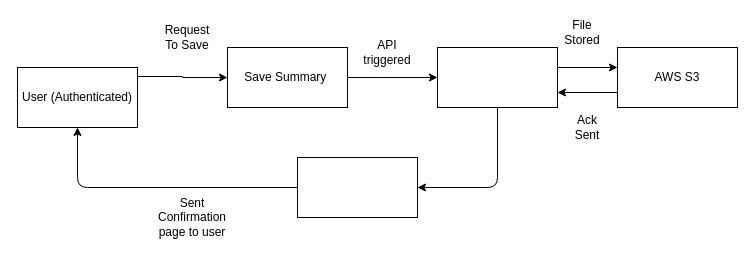
Some shapes in this 755 by 256 pixel diagram are drawn without their labels. Here are the shapes that lost their labels. From the top down, the centre of each, then its label:
At (x=497, y=77): "AWS API Gateway".
At (x=357, y=187): "Confirmation Page".
